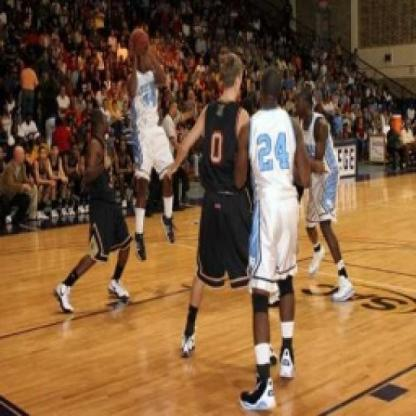basketball: (129, 28, 151, 56)
